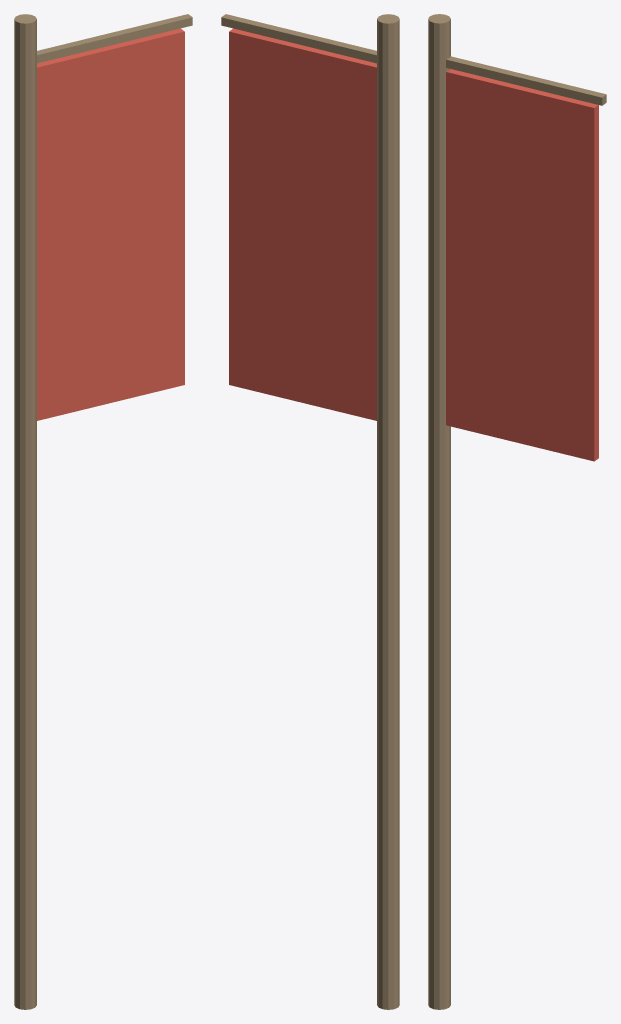
Rendered from banner.glb.
3 views of the same model, side by side, from view 1: azimuth 30°, elevation 25°; view 2: azimuth 150°, elevation 25°; view 3: azimuth 330°, elevation 25° (orthographic).
Parts seen in each view (by area): view 1: banner cloth, banner pole, banner yard; view 2: banner cloth, banner pole, banner yard; view 3: banner cloth, banner pole, banner yard.
Boxes of the visible parts, <box> form: banner cloth: <box>37,28,184,420</box>; banner pole: <box>14,14,36,1009</box>; banner yard: <box>37,14,192,63</box>; banner cloth: <box>229,28,376,420</box>; banner pole: <box>377,14,399,1009</box>; banner yard: <box>221,14,376,63</box>; banner cloth: <box>446,69,598,461</box>; banner pole: <box>428,14,450,1009</box>; banner yard: <box>446,56,606,105</box>.
Bounding box in the file's own units: 0.445 × 2.4 × 0.05.
